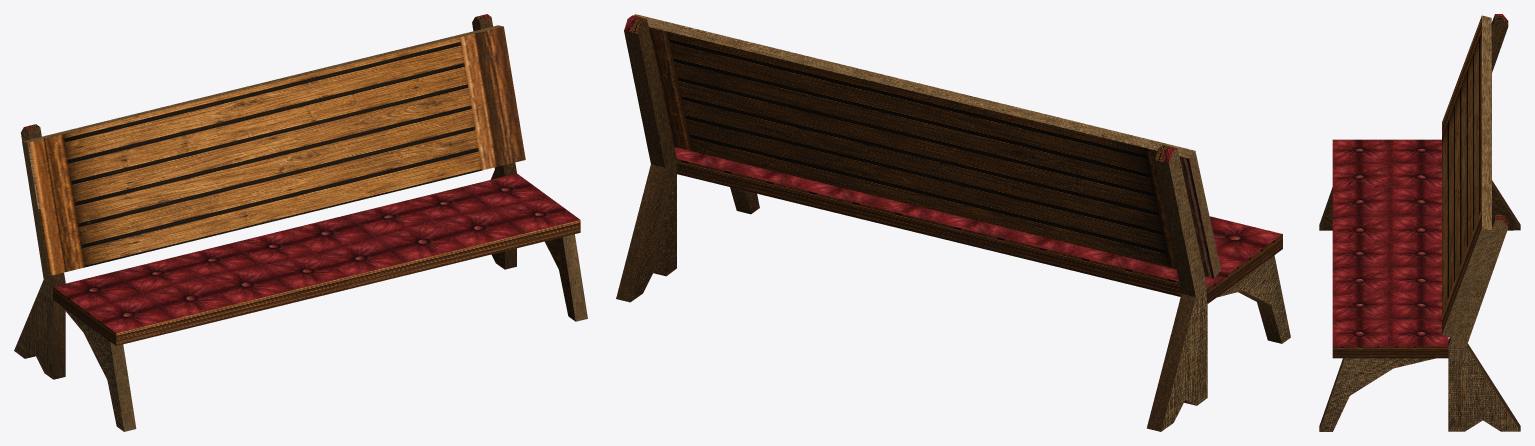
The model's file is mm9_deco_pewns.glb.
3 renders of one model, left to right at view 1: azimuth 30°, elevation 25°; view 2: azimuth 150°, elevation 25°; view 3: azimuth 270°, elevation 25°, orthographic. The views are drawn at different scales.
Parts seen in each view (by area): view 1: Pewns; view 2: Pewns; view 3: Pewns.
Part boxes in pixels (left/top/right/bottom): Pewns: left=14, top=14, right=587, bottom=431; Pewns: left=616, top=14, right=1290, bottom=431; Pewns: left=1319, top=14, right=1520, bottom=431.
Size of the model in its own units: 3.42 by 1.59 by 1.37.
2 materials, 2 textured.
